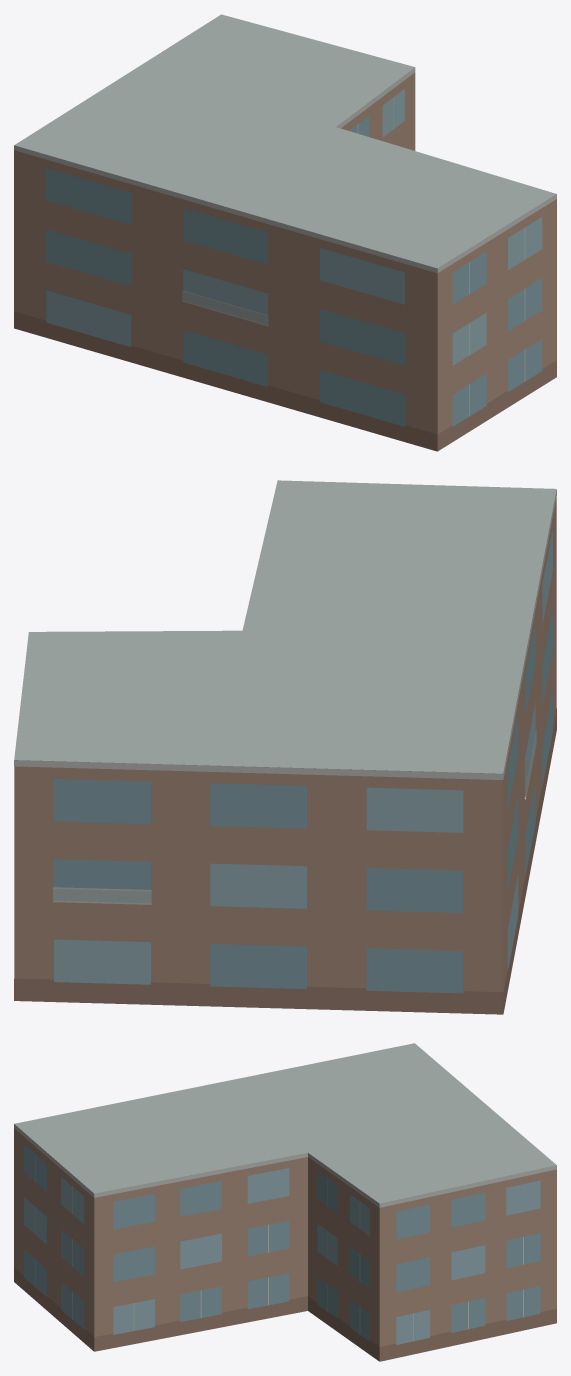
File: survey-upis-32472924.glb
3 renders of one model, top to bottom at view 1: azimuth 30°, elevation 25°; view 2: azimuth 150°, elevation 25°; view 3: azimuth 270°, elevation 25°, orthographic. The views are drawn at different scales.
Visible parts, largest first — view 1: survey-upis-32472924.tmp; view 2: survey-upis-32472924.tmp; view 3: survey-upis-32472924.tmp.
Boxes of the visible parts, x1,y1,x2,y2 form: survey-upis-32472924.tmp: [14, 14, 556, 451]; survey-upis-32472924.tmp: [14, 480, 556, 1014]; survey-upis-32472924.tmp: [14, 1043, 556, 1361].
Bounding box in the file's own units: 19.93 × 9.15 × 28.48.
